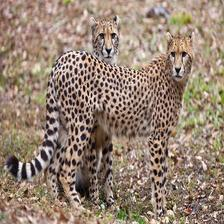Cheetah: (7, 33, 198, 224), (38, 13, 120, 205)
